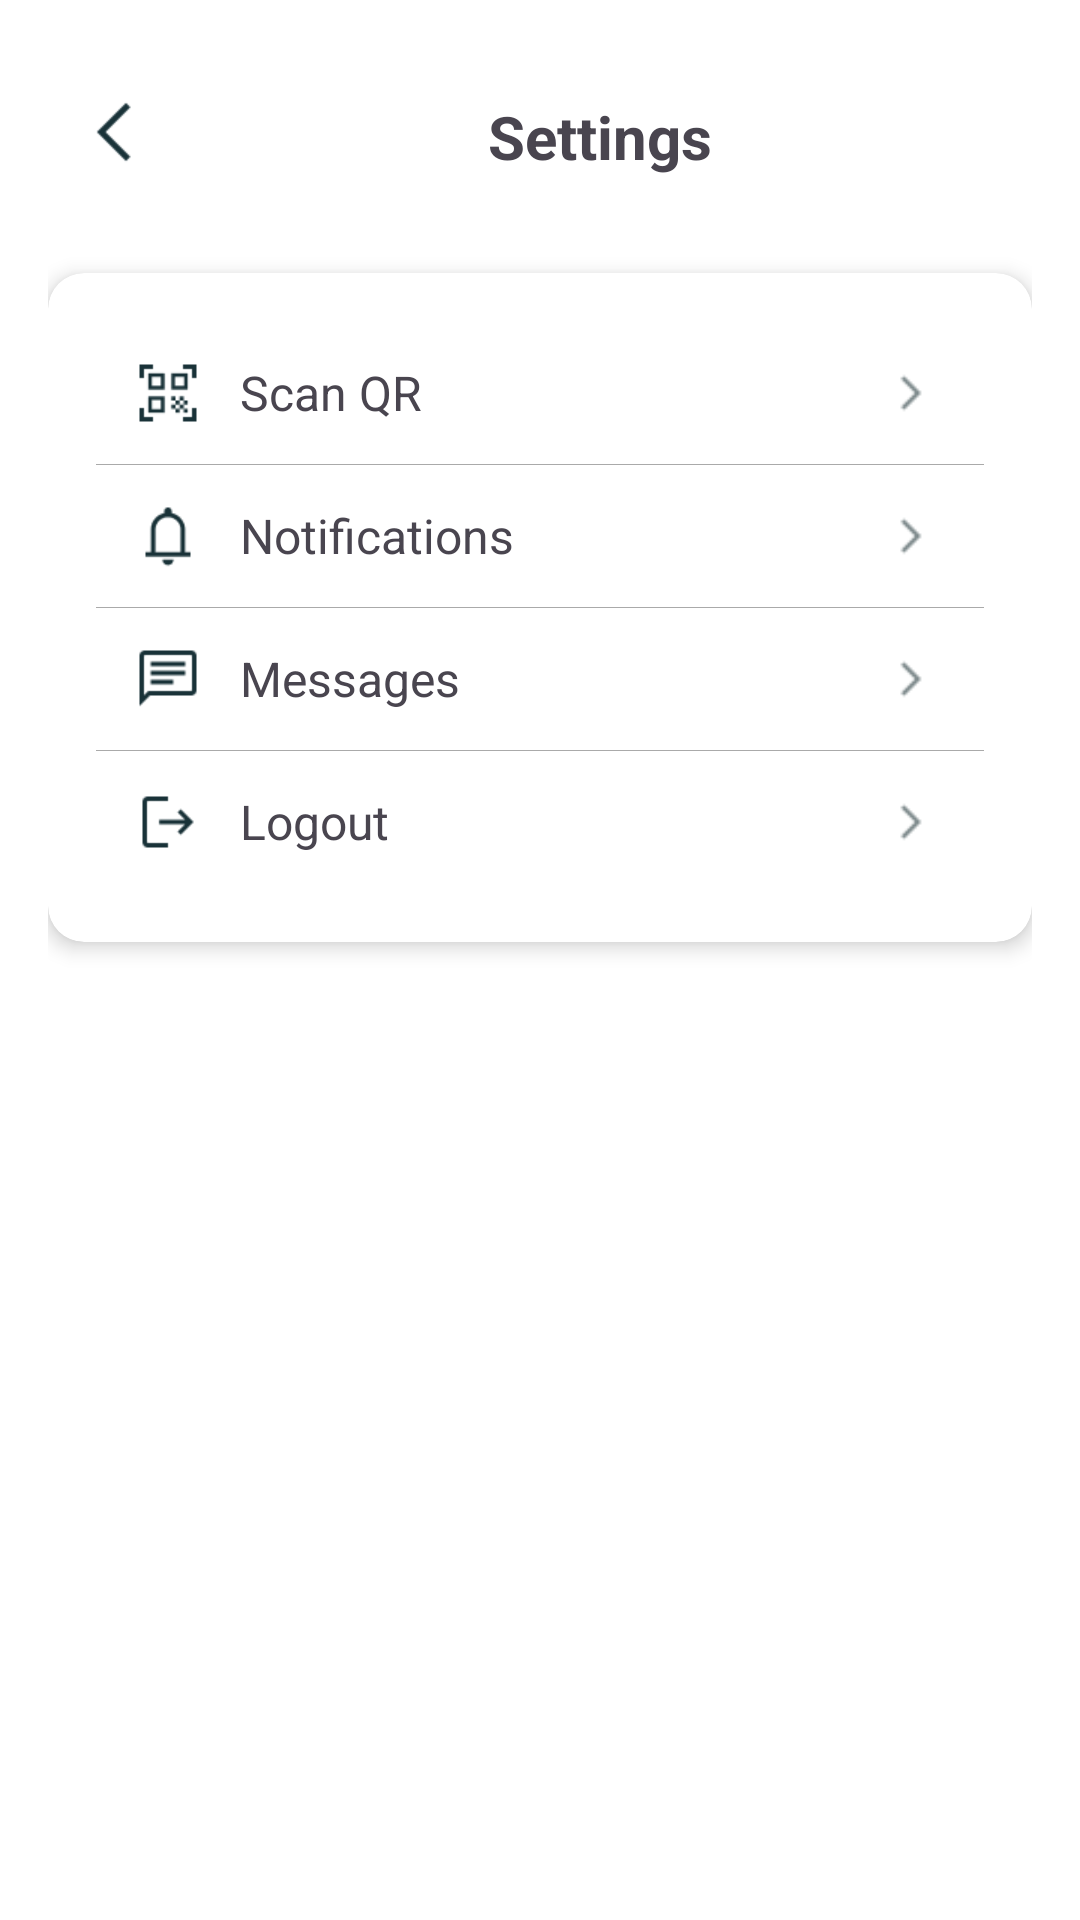

Where icons sit on this 1080×1920 app screen, as box=[x1, y1, x2, y2]:
arrow: box=[900, 376, 921, 410], box=[901, 519, 921, 553], box=[900, 662, 921, 696], box=[901, 805, 921, 839]
Back to Home: box=[97, 103, 131, 161]
